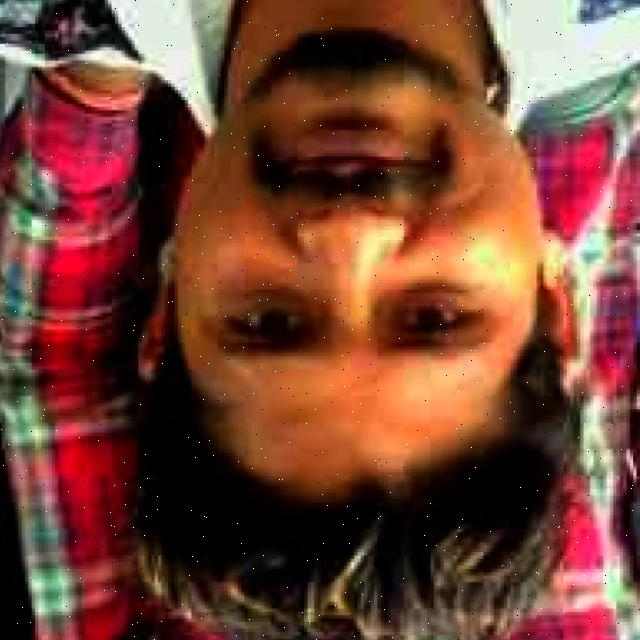puffy_eyes: (242, 286, 311, 311), (401, 283, 474, 304)
